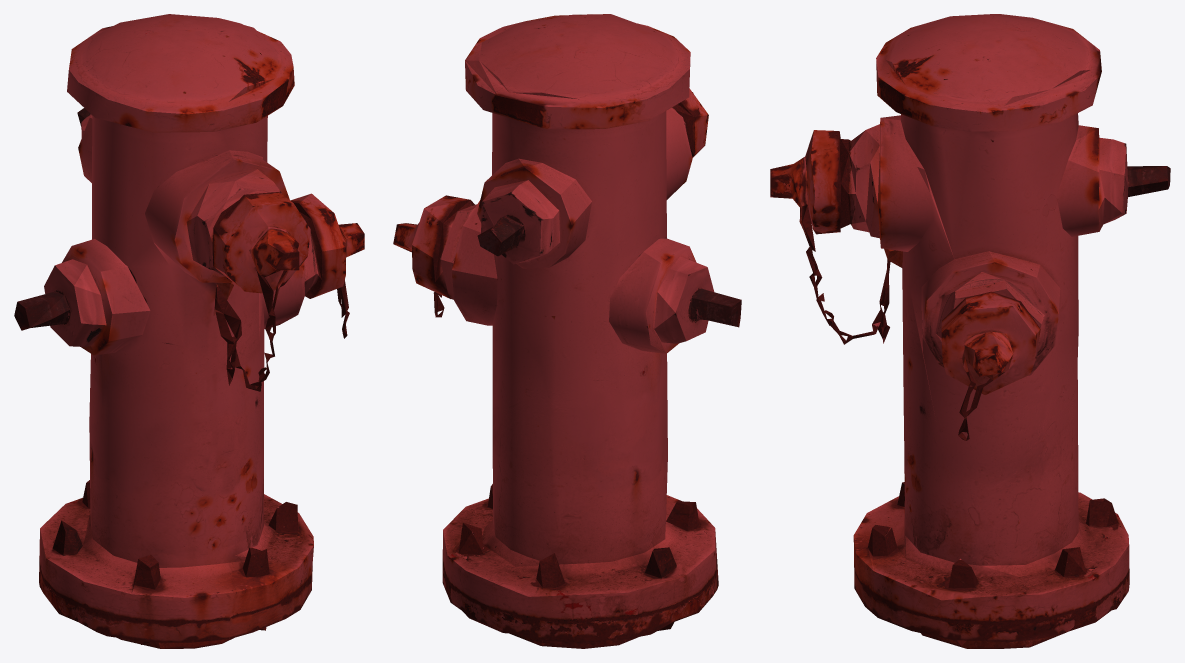
File: SM_XiaoFangShuan.glb
3 views of the same model, side by side, from view 1: azimuth 30°, elevation 25°; view 2: azimuth 150°, elevation 25°; view 3: azimuth 270°, elevation 25° (orthographic).
Visible parts, largest first — view 1: SM_XiaoFangShuan; view 2: SM_XiaoFangShuan; view 3: SM_XiaoFangShuan.
Part boxes in pixels (x1=…): SM_XiaoFangShuan: x1=14, y1=14, x2=364, y2=648; SM_XiaoFangShuan: x1=393, y1=14, x2=741, y2=648; SM_XiaoFangShuan: x1=770, y1=14, x2=1170, y2=648.
Size of the model in its own units: 0.4218 by 0.6887 by 0.4291.
Materials: 1 (1 with a texture image).
